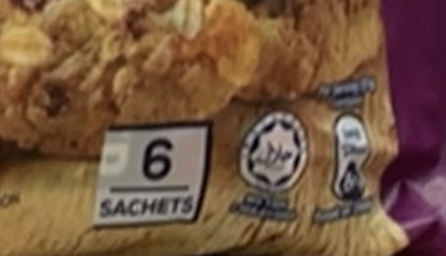halal: (255, 129, 296, 172)
